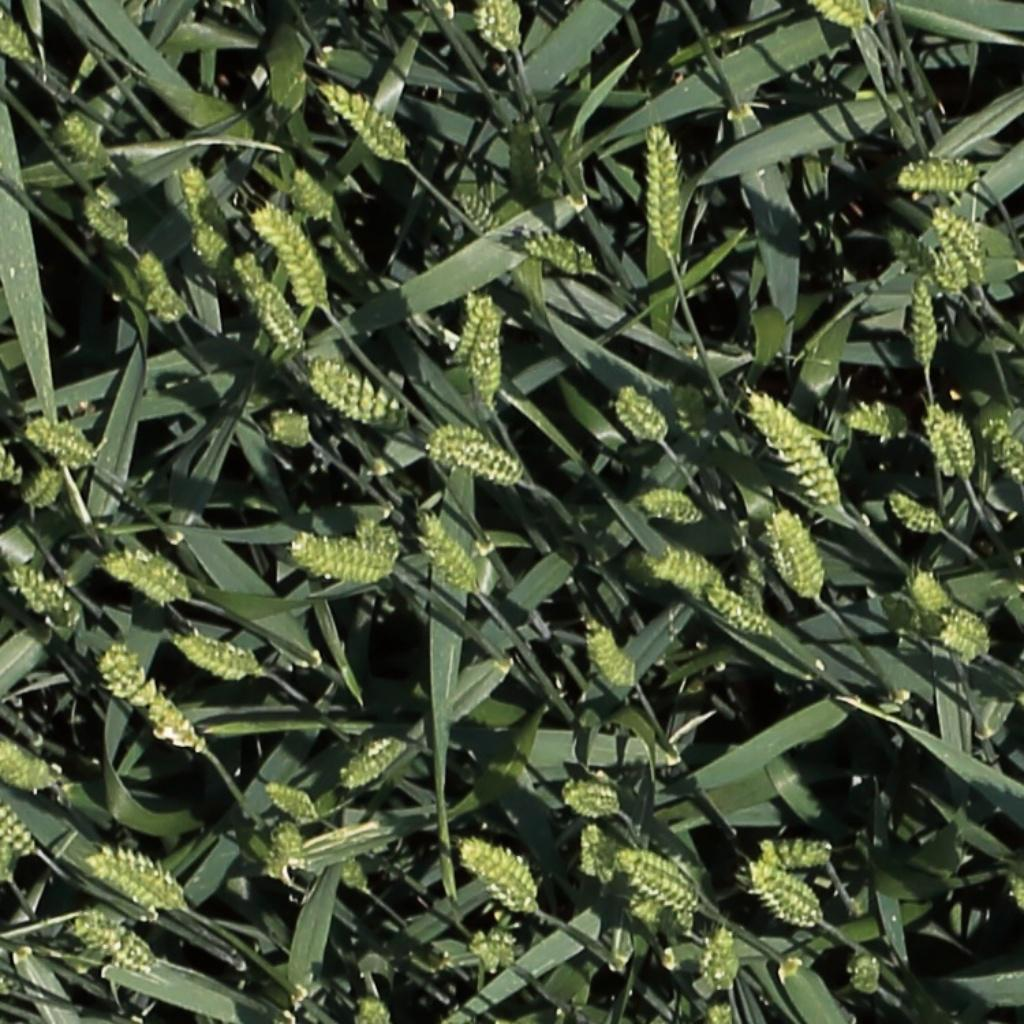0-0: (750, 389, 846, 512), (96, 647, 204, 748), (253, 202, 330, 307), (241, 257, 316, 362), (77, 844, 192, 912), (451, 839, 543, 920), (286, 528, 392, 590), (425, 418, 525, 483), (746, 859, 828, 934), (311, 361, 405, 425), (417, 510, 483, 595), (92, 545, 187, 603), (330, 99, 416, 161), (772, 507, 826, 602), (9, 565, 81, 634), (932, 202, 991, 283), (187, 216, 244, 297), (73, 917, 155, 973), (584, 618, 641, 692), (639, 545, 729, 591), (320, 828, 376, 899), (649, 118, 678, 255), (453, 299, 499, 382), (58, 107, 114, 173), (707, 585, 774, 640), (477, 308, 511, 416), (933, 402, 978, 483), (887, 221, 942, 285), (176, 636, 259, 678), (623, 872, 704, 915), (614, 385, 671, 445), (981, 412, 1024, 491), (342, 738, 406, 791), (288, 161, 338, 225), (617, 843, 693, 883), (909, 274, 940, 370), (27, 420, 96, 462), (554, 774, 622, 816), (520, 234, 596, 271), (456, 182, 503, 240), (0, 783, 35, 860), (909, 563, 955, 621), (0, 745, 54, 793), (888, 491, 946, 535), (133, 244, 176, 303), (268, 817, 303, 888), (80, 195, 131, 243), (581, 820, 614, 893), (20, 462, 64, 513), (640, 487, 702, 522), (264, 783, 318, 823), (469, 928, 509, 981), (711, 921, 738, 995), (486, 1, 522, 55), (847, 406, 908, 436), (0, 1, 31, 60), (940, 617, 989, 653), (803, 0, 868, 27), (853, 947, 883, 1000), (942, 625, 985, 659), (0, 410, 20, 481), (0, 826, 15, 895), (356, 993, 390, 1022)
